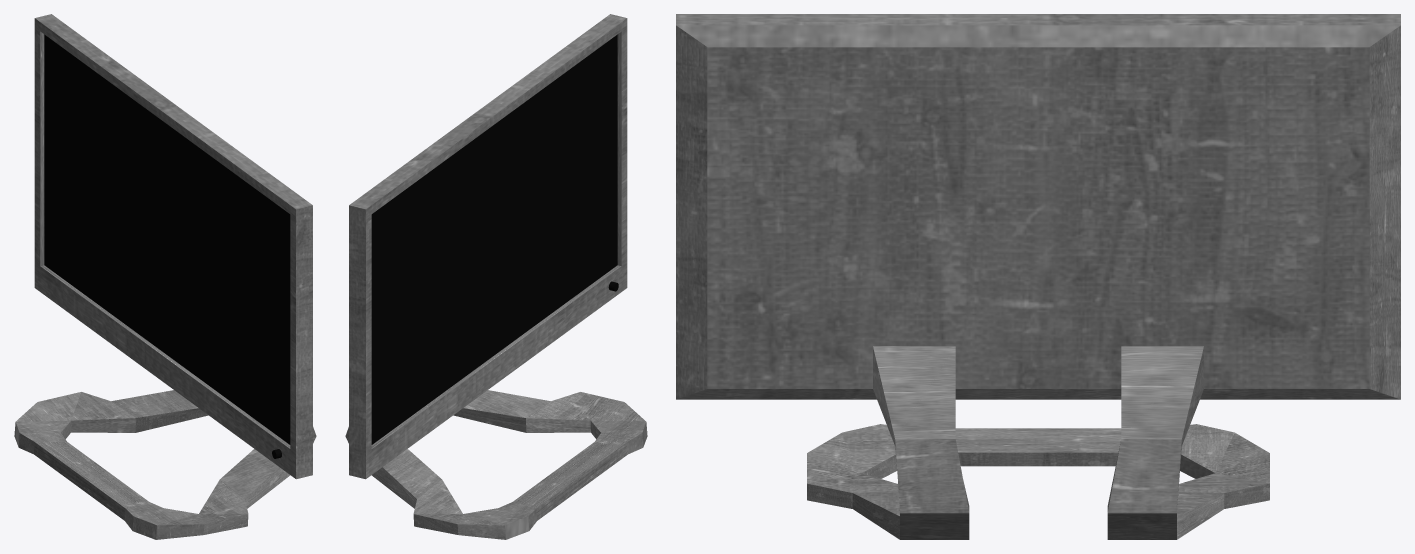
3 views of the same model, side by side, from view 1: azimuth 30°, elevation 25°; view 2: azimuth 150°, elevation 25°; view 3: azimuth 270°, elevation 25° (orthographic). The views are drawn at different scales.
Parts seen in each view (by area): view 1: Main; view 2: Main; view 3: Main.
Part boxes in pixels (x1,y1,x2,y2): Main: (14, 14, 316, 539); Main: (345, 14, 647, 539); Main: (676, 14, 1400, 539).
Bounding box in the file's own units: 1.49 × 2.65 × 3.52.
